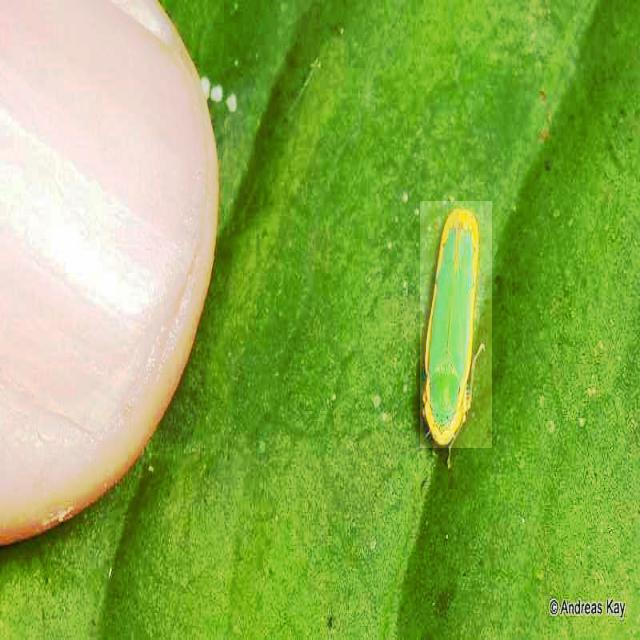green-leafhopper: (420, 201, 492, 448)
